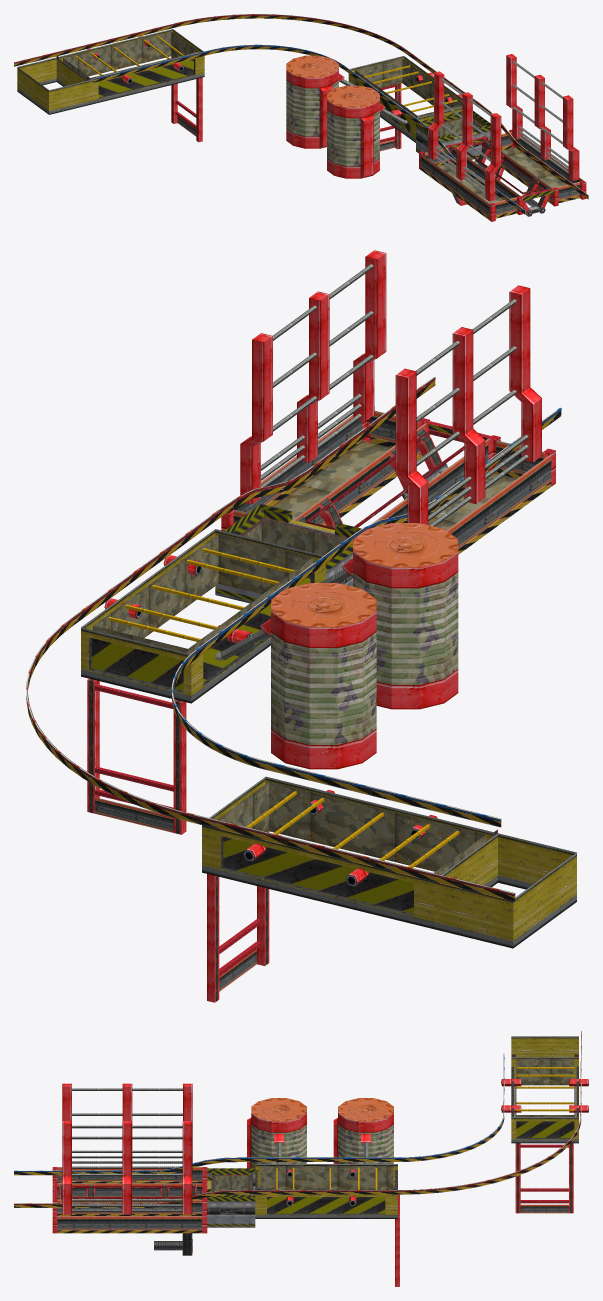
Rendered from STG08_ON_03.obj.
3 renders of one model, top to bottom at view 1: azimuth 30°, elevation 25°; view 2: azimuth 150°, elevation 25°; view 3: azimuth 270°, elevation 25°, orthographic. The views are drawn at different scales.
Visible parts, largest first — view 1: Object_2; view 2: Object_2; view 3: Object_2.
Boxes of the visible parts, x1,y1,x2,y2 form: Object_2: [14, 14, 588, 221]; Object_2: [26, 250, 576, 1002]; Object_2: [14, 1031, 588, 1286].
Size of the model in its own units: 820 by 390 by 1190.
